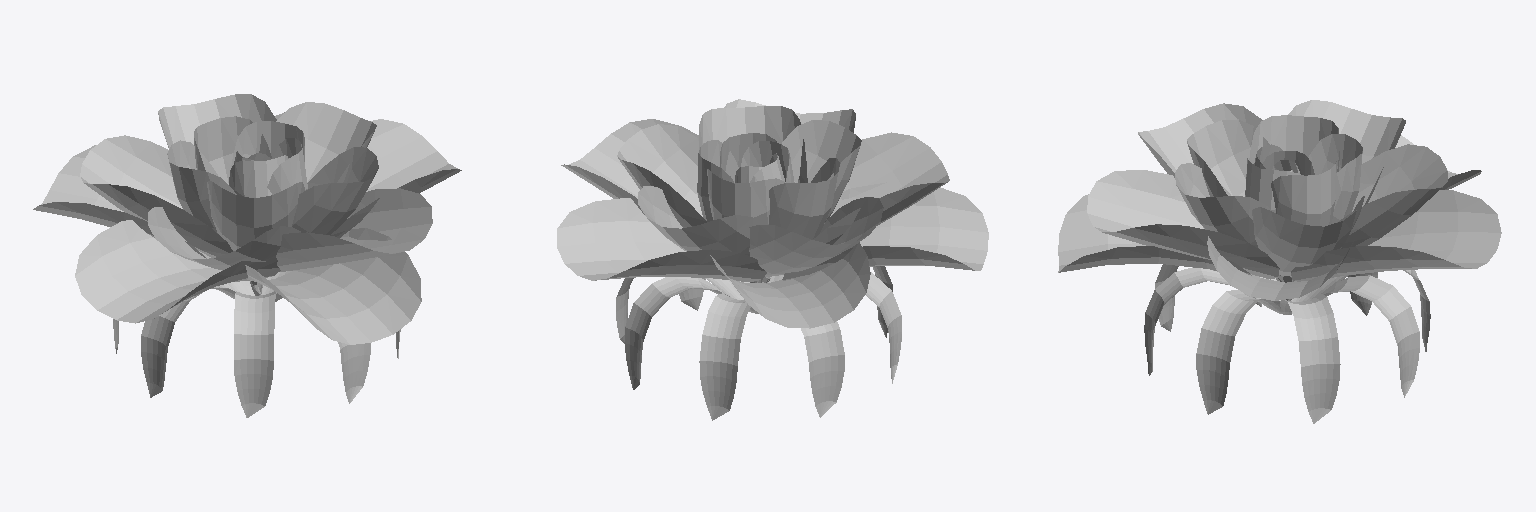
The model's file is FlowerTopModel_03_seq_0039.obj.
3 renders of one model, left to right at view 1: azimuth 30°, elevation 25°; view 2: azimuth 150°, elevation 25°; view 3: azimuth 270°, elevation 25°, orthographic.
Parts seen in each view (by area): view 1: FlowerTopModel_03; view 2: FlowerTopModel_03; view 3: FlowerTopModel_03.
Boxes of the visible parts, <box> form: FlowerTopModel_03: <box>33,94,461,417</box>; FlowerTopModel_03: <box>557,99,988,420</box>; FlowerTopModel_03: <box>1058,100,1501,423</box>.
Size of the model in its own units: 887 by 476 by 892.